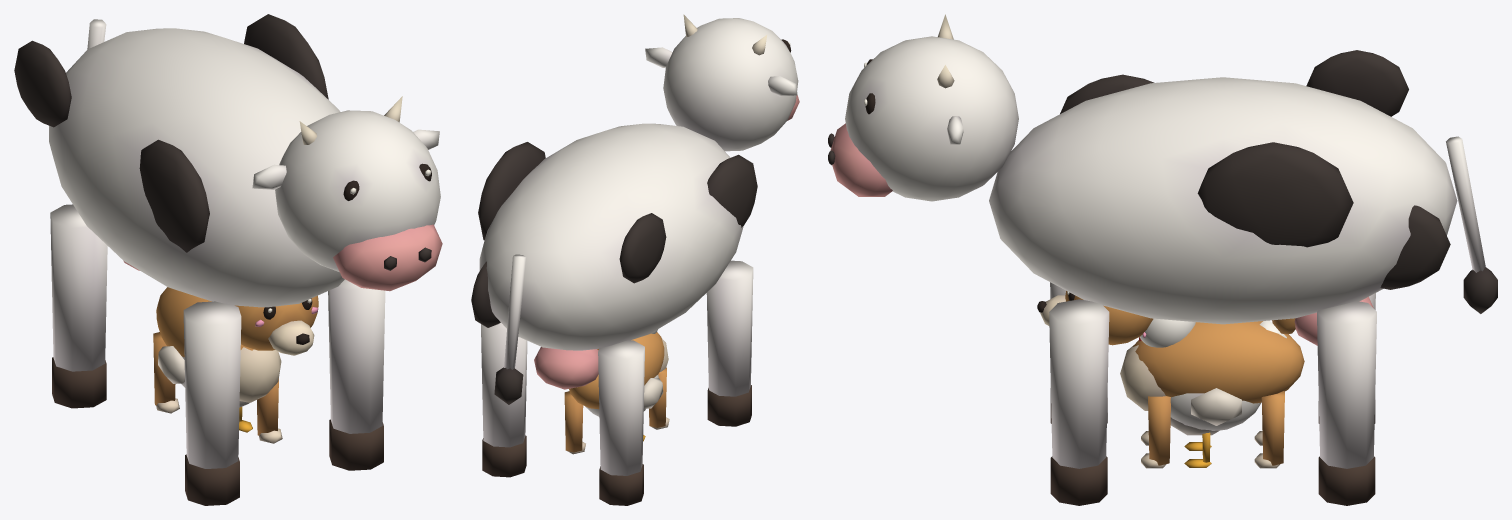
The model's file is valley_animals.glb.
3 views of the same model, side by side, from view 1: azimuth 30°, elevation 25°; view 2: azimuth 150°, elevation 25°; view 3: azimuth 270°, elevation 25° (orthographic). The views are drawn at different scales.
Visible parts, largest first — view 1: body.003, head.003, leg_FR.001, leg_BR.001, leg_FL.001, spot_1, muzzle, spot_3, spot_0, leg_BR_hoof, leg_FL_hoof, leg_FR_hoof (+8 smaller); view 2: body.003, head.003, leg_BR.001, leg_FR.001, leg_BL.001, spot_0, spot_1, spot_3, udder, body.005, tail.003, leg_BL_hoof (+9 smaller); view 3: body.003, head.003, spot_0, body.005, leg_FL.001, leg_BL.001, spot_3, spot_2, muzzle, leg_FL_hoof, leg_BL_hoof, tail.003 (+9 smaller).
Boxes of the visible parts, box(x1,y1,x2,y2) form: body.003: box(49, 28, 344, 307); head.003: box(275, 110, 440, 271); leg_FR.001: box(183, 301, 241, 468); leg_BR.001: box(50, 204, 107, 371); leg_FL.001: box(328, 279, 385, 433); spot_1: box(139, 139, 209, 252); muzzle: box(333, 224, 442, 291); spot_3: box(14, 40, 71, 127); spot_0: box(244, 14, 328, 99); leg_BR_hoof: box(52, 357, 106, 408); leg_FL_hoof: box(329, 419, 383, 470); leg_FR_hoof: box(185, 454, 239, 505); body.003: box(479, 123, 743, 350); head.003: box(663, 18, 798, 151); leg_BR.001: box(598, 340, 644, 475); leg_FR.001: box(706, 260, 753, 396); leg_BL.001: box(481, 322, 527, 447); spot_0: box(478, 142, 545, 240); spot_1: box(707, 154, 757, 227); spot_3: box(619, 213, 666, 283); udder: box(534, 347, 598, 389); body.005: box(569, 332, 664, 409); tail.003: box(504, 254, 526, 369); leg_BL_hoof: box(482, 435, 526, 477); body.003: box(989, 77, 1457, 324); head.003: box(845, 36, 1018, 201); spot_0: box(1197, 142, 1353, 247); body.005: box(1132, 321, 1304, 403); leg_FL.001: box(1049, 299, 1109, 468); leg_BL.001: box(1317, 301, 1376, 468); spot_3: box(1306, 50, 1408, 116); spot_2: box(1380, 205, 1450, 289); muzzle: box(830, 123, 892, 196); leg_FL_hoof: box(1050, 456, 1107, 505); leg_BL_hoof: box(1318, 456, 1375, 505); tail.003: box(1446, 136, 1485, 272).
Size of the model in its own units: 0.82 by 1.38 by 2.
